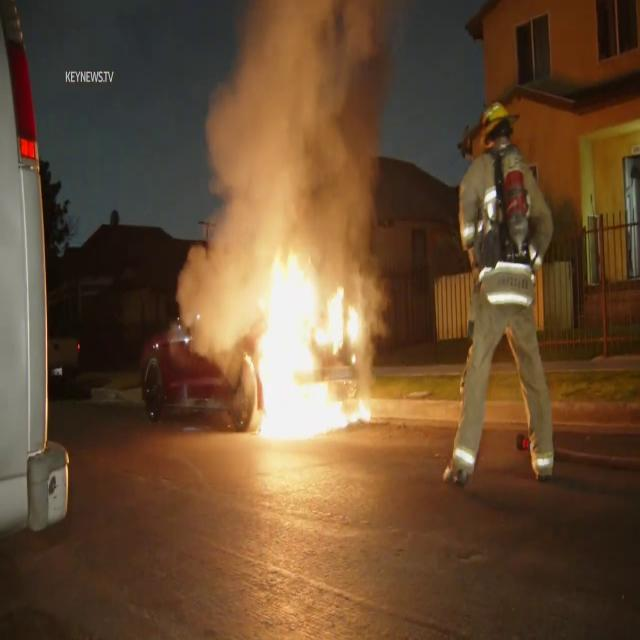Fire: (238, 226, 378, 449)
Smoke: (187, 0, 407, 256)
